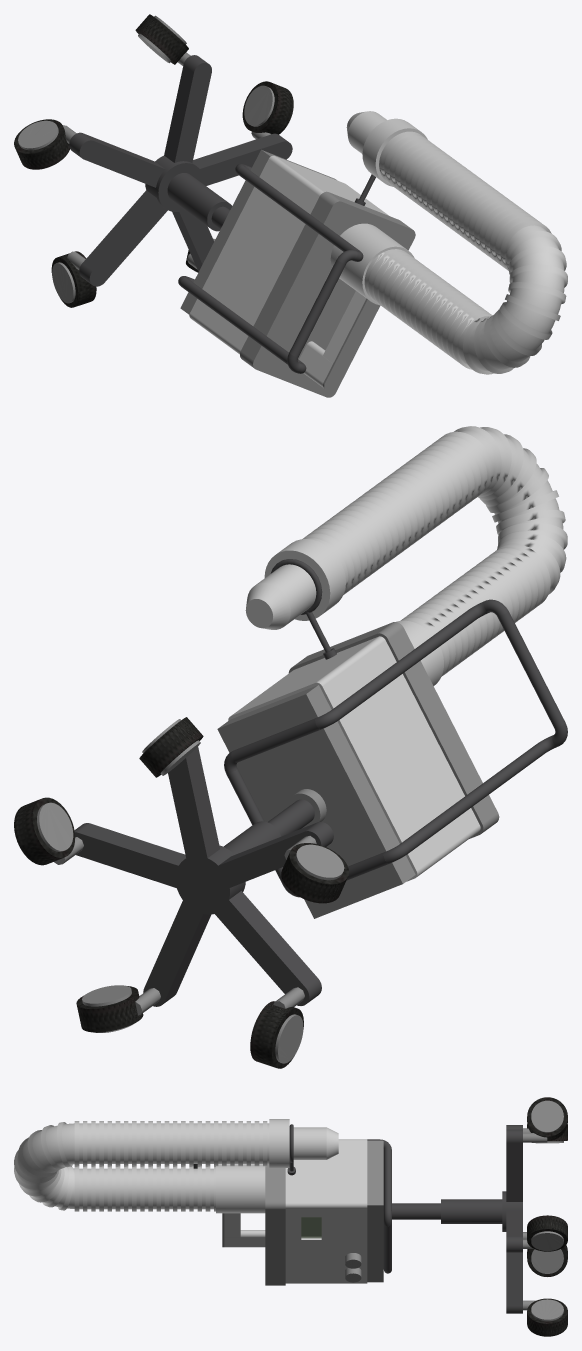
The model's file is Patientenwärmer.obj.
3 views of the same model, one above another, from view 1: azimuth 30°, elevation 25°; view 2: azimuth 150°, elevation 25°; view 3: azimuth 270°, elevation 25° (orthographic). The views are drawn at different scales.
Visible parts, largest first — view 1: 0_MT_GER_TE KUNSTSTOFF_PE__WEISS SMOOTH_PART, 0_MT_GER_TE FARBE__GRAU FLAT_PART, 0_MT_GER_TE KUNSTSTOFF_PE__WEISS FLAT_PART, 0_MT_GER_TE STAHL__ROSTFREI SMOOTH_PART, 0_MT_GER_TE STAHL__ROSTFREI FLAT_PART, 0_MT_GER_TE FARBE__WEI_ SMOOTH_PART, 0_MT_GER_TE FARBE__GRAU SMOOTH_PART, 0_MT_GER_TE ASPHALT SMOOTH_PART, 0_MT_GER_TE ASPHALT FLAT_PART; view 2: 0_MT_GER_TE KUNSTSTOFF_PE__WEISS SMOOTH_PART, 0_MT_GER_TE FARBE__GRAU FLAT_PART, 0_MT_GER_TE STAHL__ROSTFREI SMOOTH_PART, 0_MT_GER_TE KUNSTSTOFF_PE__WEISS FLAT_PART, 0_MT_GER_TE STAHL__ROSTFREI FLAT_PART, 0_MT_GER_TE ASPHALT SMOOTH_PART, 0_MT_GER_TE FARBE__GRAU SMOOTH_PART, 0_MT_GER_TE FARBE__WEI_ SMOOTH_PART, 0_MT_GER_TE ASPHALT FLAT_PART; view 3: 0_MT_GER_TE KUNSTSTOFF_PE__WEISS SMOOTH_PART, 0_MT_GER_TE KUNSTSTOFF_PE__WEISS FLAT_PART, 0_MT_GER_TE STAHL__ROSTFREI SMOOTH_PART, 0_MT_GER_TE FARBE__GRAU FLAT_PART, 0_MT_GER_TE FARBE__GRAU SMOOTH_PART, 0_MT_GER_TE FARBE__WEI_ SMOOTH_PART, 0_MT_GER_TE ASPHALT SMOOTH_PART, 0_MT_GER_TE ASPHALT FLAT_PART, 0_MT_GER_TE GLAS_PROFILIT.
Boxes of the visible parts, bbox=[...] form: 0_MT_GER_TE KUNSTSTOFF_PE__WEISS SMOOTH_PART: bbox=[189, 111, 567, 387]; 0_MT_GER_TE FARBE__GRAU FLAT_PART: bbox=[18, 35, 415, 397]; 0_MT_GER_TE KUNSTSTOFF_PE__WEISS FLAT_PART: bbox=[190, 128, 427, 363]; 0_MT_GER_TE STAHL__ROSTFREI SMOOTH_PART: bbox=[69, 55, 375, 373]; 0_MT_GER_TE STAHL__ROSTFREI FLAT_PART: bbox=[79, 63, 365, 286]; 0_MT_GER_TE FARBE__WEI_ SMOOTH_PART: bbox=[458, 225, 564, 371]; 0_MT_GER_TE FARBE__GRAU SMOOTH_PART: bbox=[19, 15, 411, 388]; 0_MT_GER_TE ASPHALT SMOOTH_PART: bbox=[15, 14, 293, 307]; 0_MT_GER_TE ASPHALT FLAT_PART: bbox=[14, 30, 278, 307]; 0_MT_GER_TE KUNSTSTOFF_PE__WEISS SMOOTH_PART: bbox=[233, 426, 567, 876]; 0_MT_GER_TE FARBE__GRAU FLAT_PART: bbox=[39, 633, 483, 1063]; 0_MT_GER_TE STAHL__ROSTFREI SMOOTH_PART: bbox=[74, 559, 567, 1004]; 0_MT_GER_TE KUNSTSTOFF_PE__WEISS FLAT_PART: bbox=[228, 550, 479, 881]; 0_MT_GER_TE STAHL__ROSTFREI FLAT_PART: bbox=[75, 648, 333, 1006]; 0_MT_GER_TE ASPHALT SMOOTH_PART: bbox=[14, 717, 347, 1067]; 0_MT_GER_TE FARBE__GRAU SMOOTH_PART: bbox=[37, 622, 499, 1063]; 0_MT_GER_TE FARBE__WEI_ SMOOTH_PART: bbox=[460, 430, 564, 588]; 0_MT_GER_TE ASPHALT FLAT_PART: bbox=[32, 736, 348, 1068]; 0_MT_GER_TE KUNSTSTOFF_PE__WEISS SMOOTH_PART: bbox=[14, 1119, 367, 1283]; 0_MT_GER_TE KUNSTSTOFF_PE__WEISS FLAT_PART: bbox=[224, 1141, 367, 1282]; 0_MT_GER_TE STAHL__ROSTFREI SMOOTH_PART: bbox=[193, 1124, 522, 1313]; 0_MT_GER_TE FARBE__GRAU FLAT_PART: bbox=[345, 1100, 563, 1319]; 0_MT_GER_TE FARBE__GRAU SMOOTH_PART: bbox=[222, 1119, 563, 1321]; 0_MT_GER_TE FARBE__WEI_ SMOOTH_PART: bbox=[17, 1123, 74, 1208]; 0_MT_GER_TE ASPHALT SMOOTH_PART: bbox=[527, 1118, 567, 1336]; 0_MT_GER_TE ASPHALT FLAT_PART: bbox=[527, 1097, 567, 1323]; 0_MT_GER_TE GLAS_PROFILIT: bbox=[301, 1217, 321, 1238].
Bounding box in the file's own units: 59.11 × 57.3 × 135.
